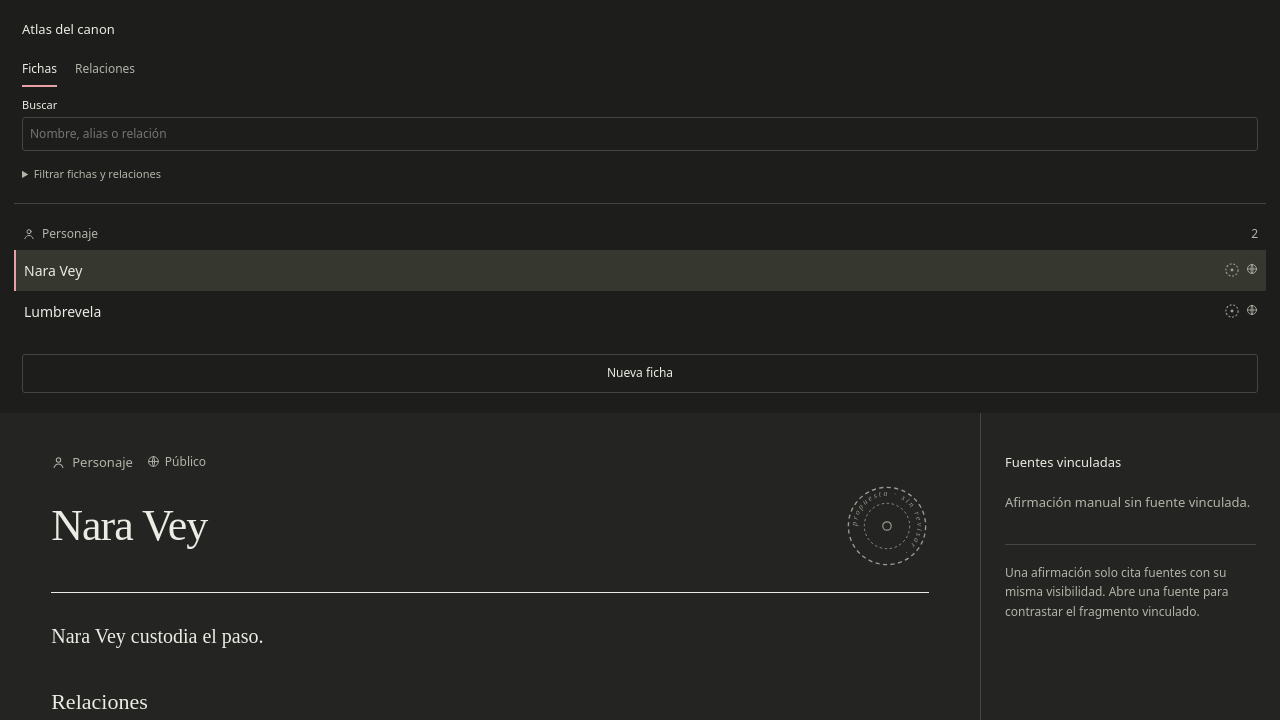
Scenario: CatalogueWorkspace › navega de una relación a su ficha exacta y permite volver a las relaciones
This screenshot has width=1280, height=720.
Expected: the heading "Nara Vey" is shown, [51,501,207,552]
Click the link "Relaciones": [105, 68] box [75,60,135,76]
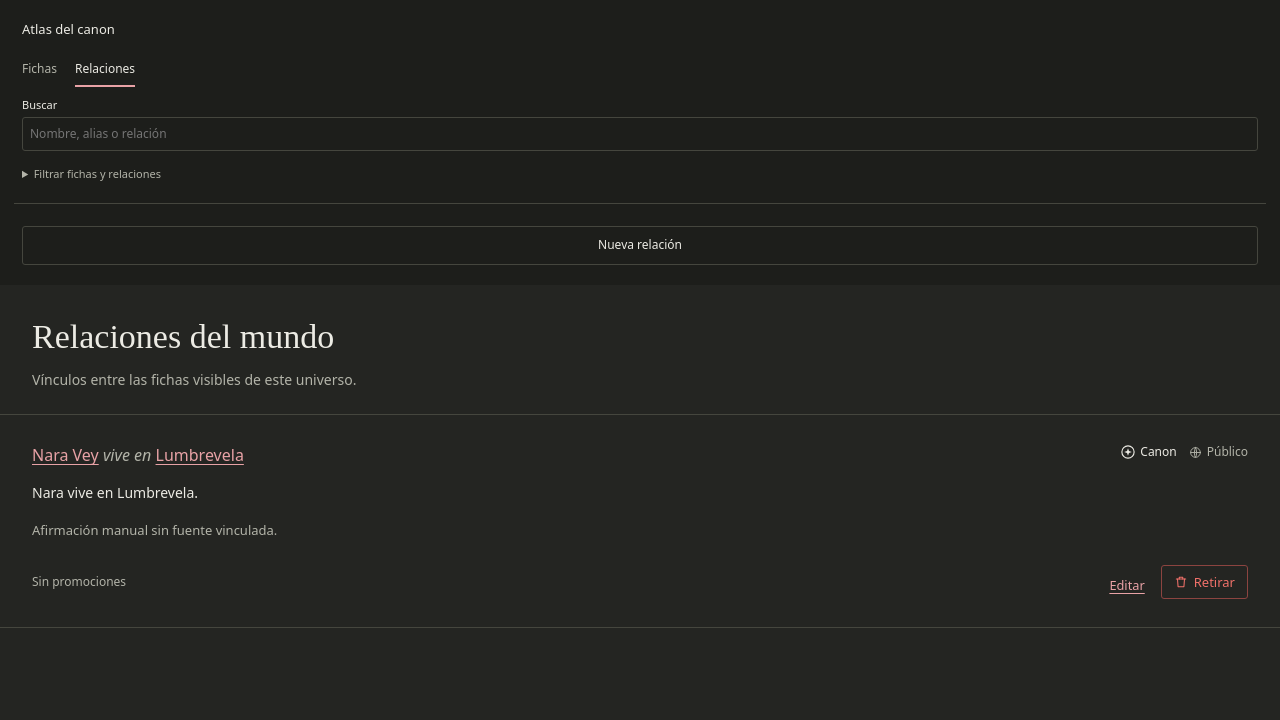
Click the link with aria-label "Ver ficha de Lumbrevela": [200, 456] box [156,444,244,466]
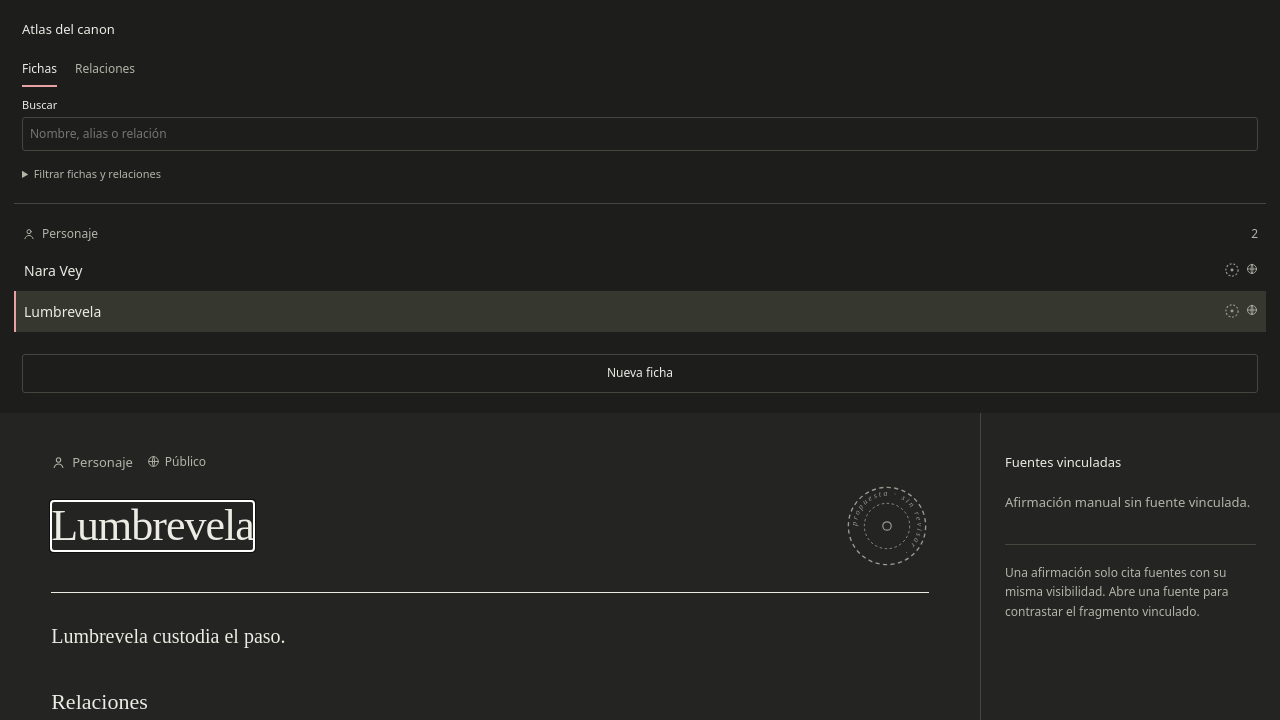
Expected: the text "Nara Vey custodia el paso." is not shown
Expected: the text "Lumbrevela custodia el paso." is shown, [51,625,286,647]
Click the link "Relaciones": [105, 68] box [75,60,135,76]
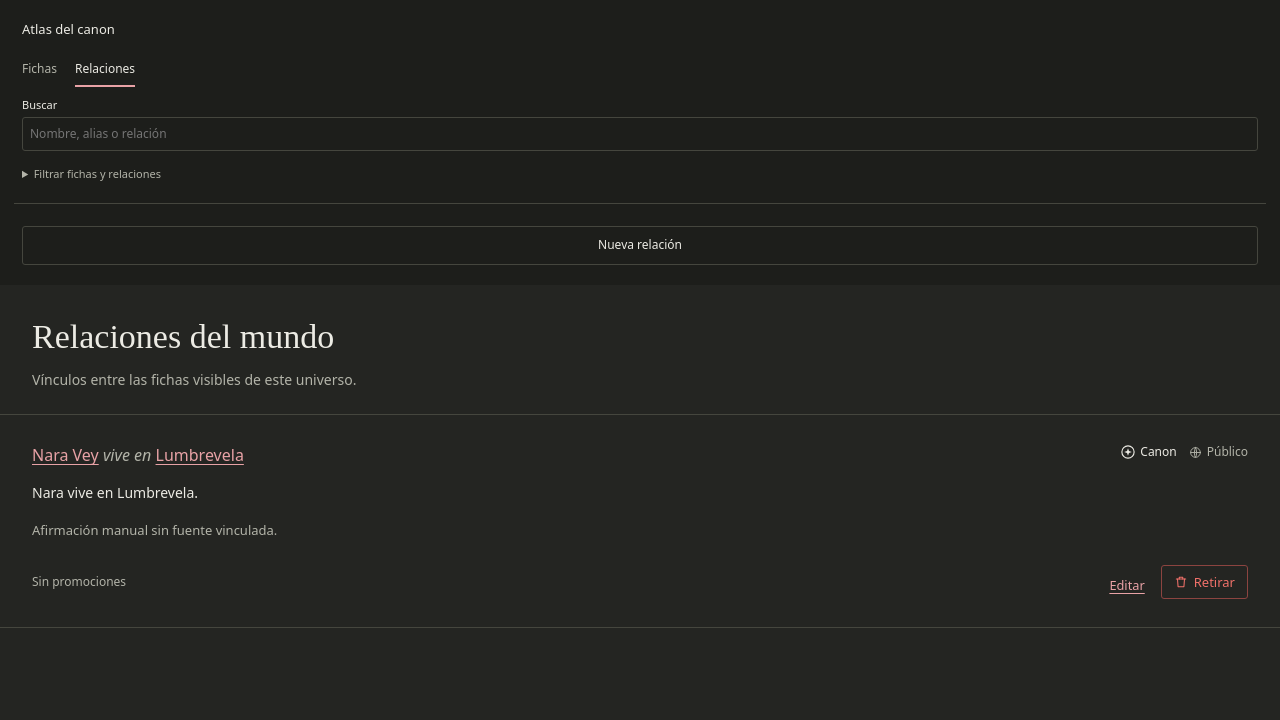
Expected: the text "Nara vive en Lumbrevela." is shown, [32,484,198,502]
Click the link with aria-label "Ver ficha de Nara Vey": [65, 456] box [32,444,99,466]
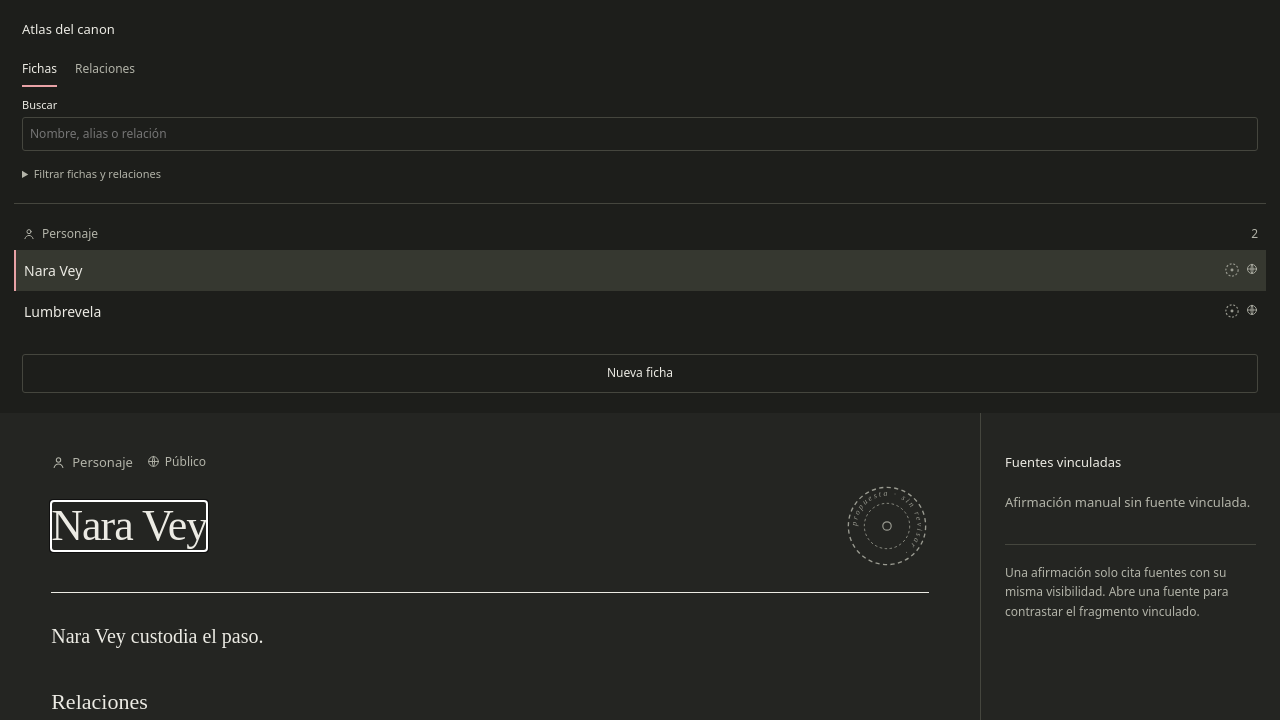
Expected: the text "Nara Vey custodia el paso." is shown, [51,625,264,647]
Click the link with aria-label "Abrir ficha de Lumbrevela": [63, 311] box [24,302,1258,320]
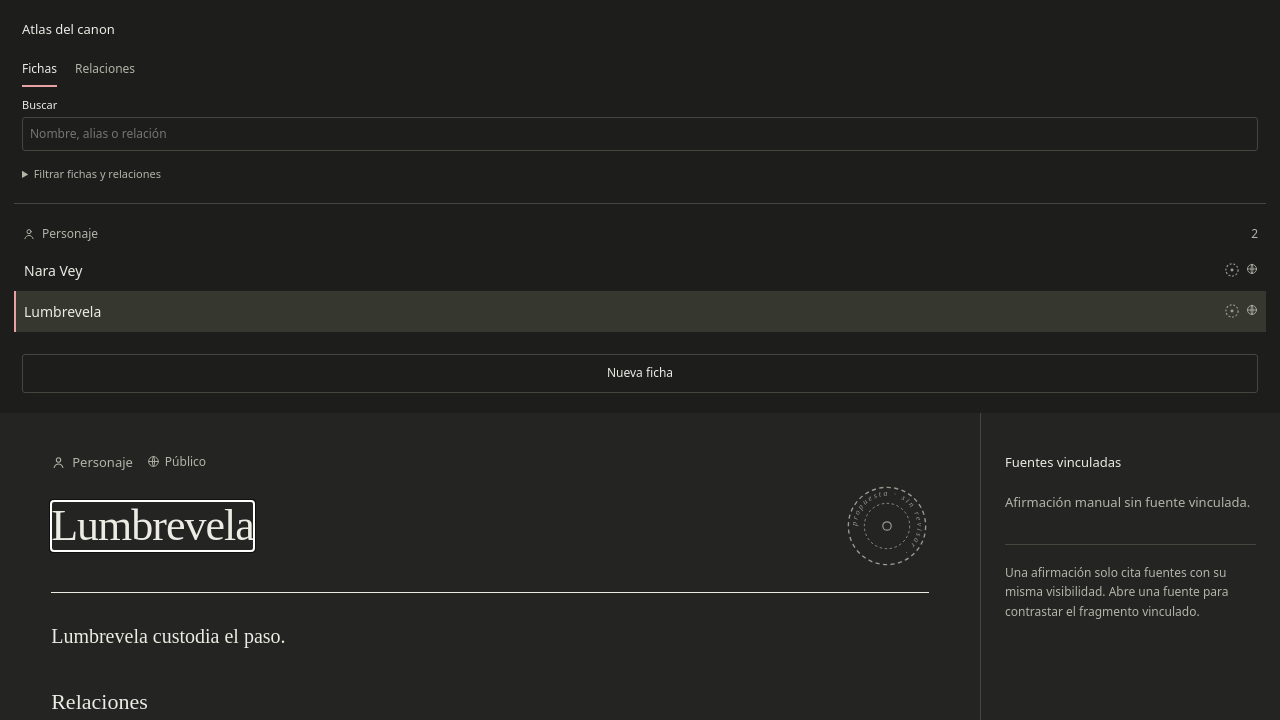
Expected: the text "Lumbrevela custodia el paso." is shown, [51,625,286,647]
